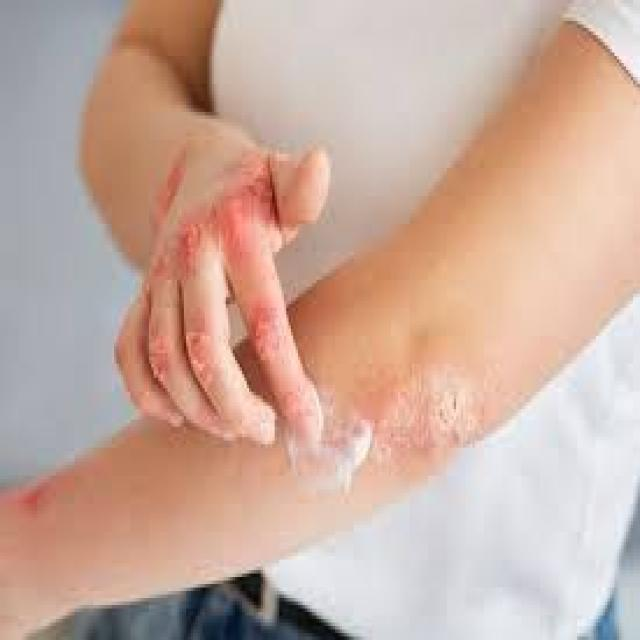Eczema: (130, 148, 314, 418), (316, 389, 479, 463)
